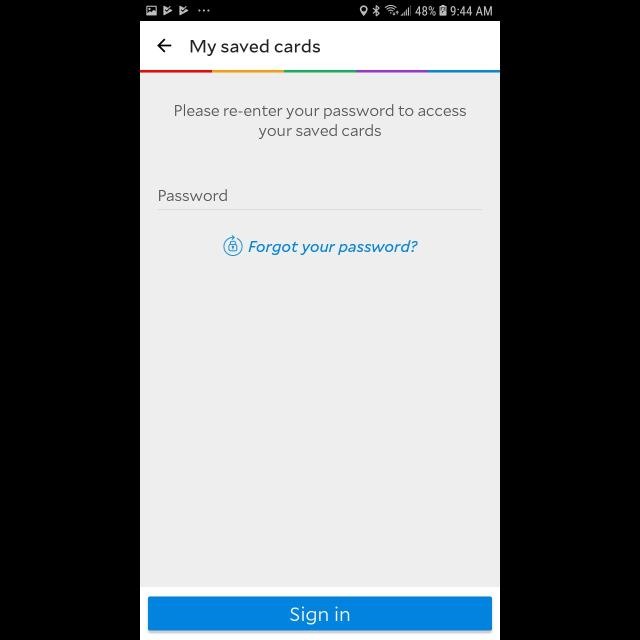icon: (224, 236, 244, 256), (158, 39, 172, 53)
input: (158, 189, 482, 211)
text: (176, 104, 467, 140), (248, 240, 418, 256), (191, 40, 321, 56), (160, 190, 228, 202)
textbutton: (148, 597, 492, 631)
uppertaskbar: (140, 1, 500, 22)
